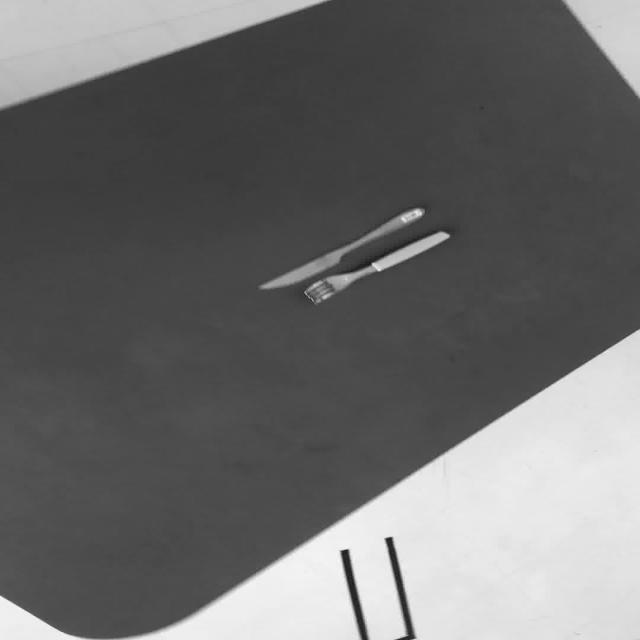fork: (301, 229, 450, 304)
knife fork: (255, 204, 425, 291), (301, 228, 450, 304)
